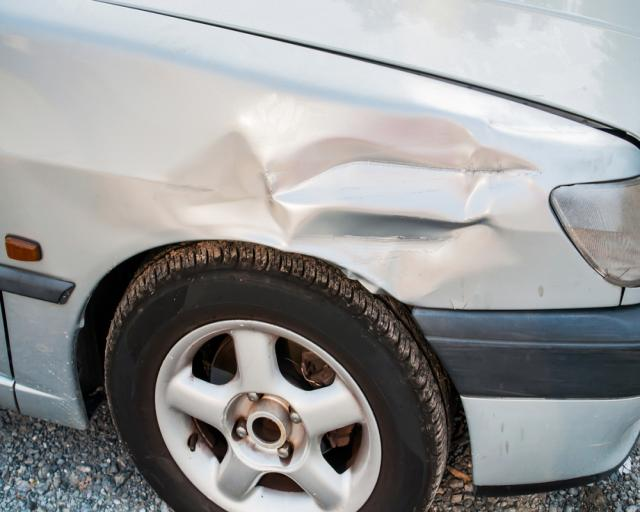dent: (164, 94, 538, 303)
